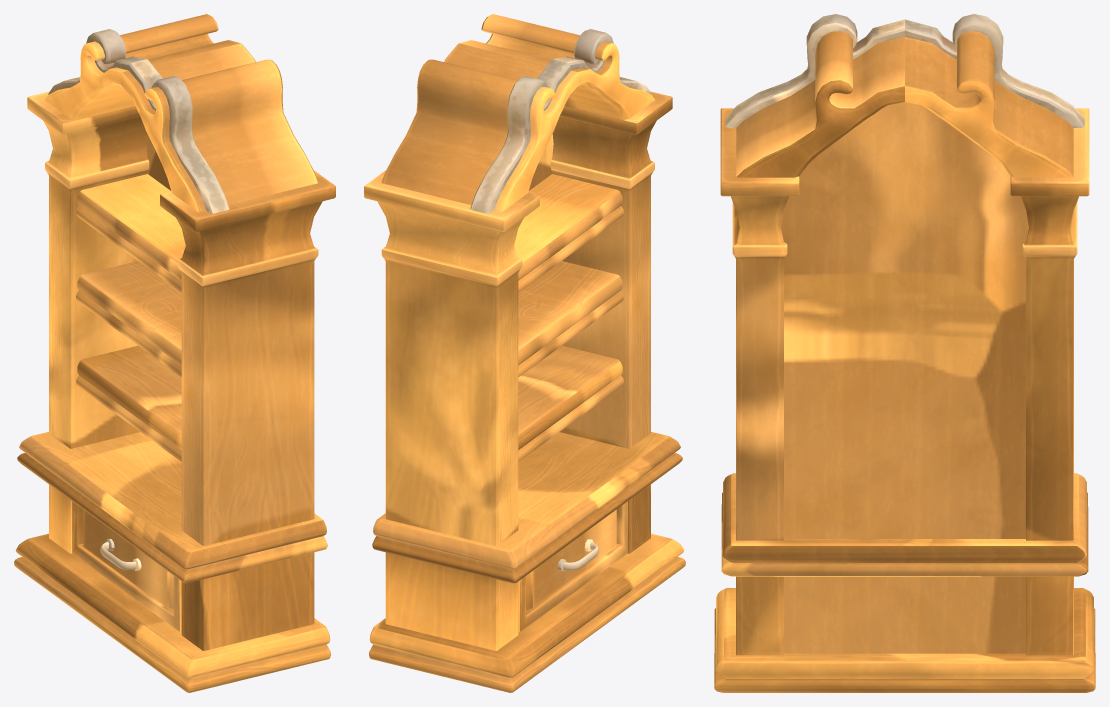
Rendered from SM_Shelf.fbx.
3 renders of one model, left to right at view 1: azimuth 30°, elevation 25°; view 2: azimuth 150°, elevation 25°; view 3: azimuth 270°, elevation 25°, orthographic. The views are drawn at different scales.
Parts seen in each view (by area): view 1: SM_Shelf_LOD0; view 2: SM_Shelf_LOD0; view 3: SM_Shelf_LOD0.
Boxes of the visible parts, box(x1,y1,x2,y2) form: SM_Shelf_LOD0: box(14, 14, 335, 692); SM_Shelf_LOD0: box(364, 14, 685, 692); SM_Shelf_LOD0: box(714, 14, 1095, 692).
Bounding box in the file's own units: 67.85 × 135 × 242.
